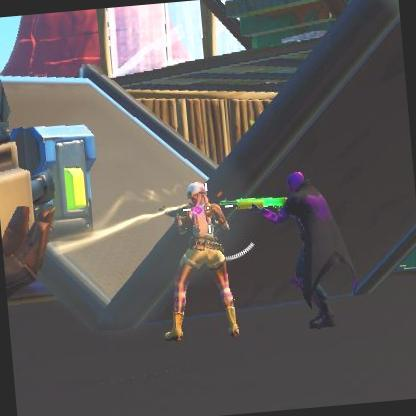person: (268, 167, 362, 332), (180, 182, 250, 332), (184, 180, 230, 236)
